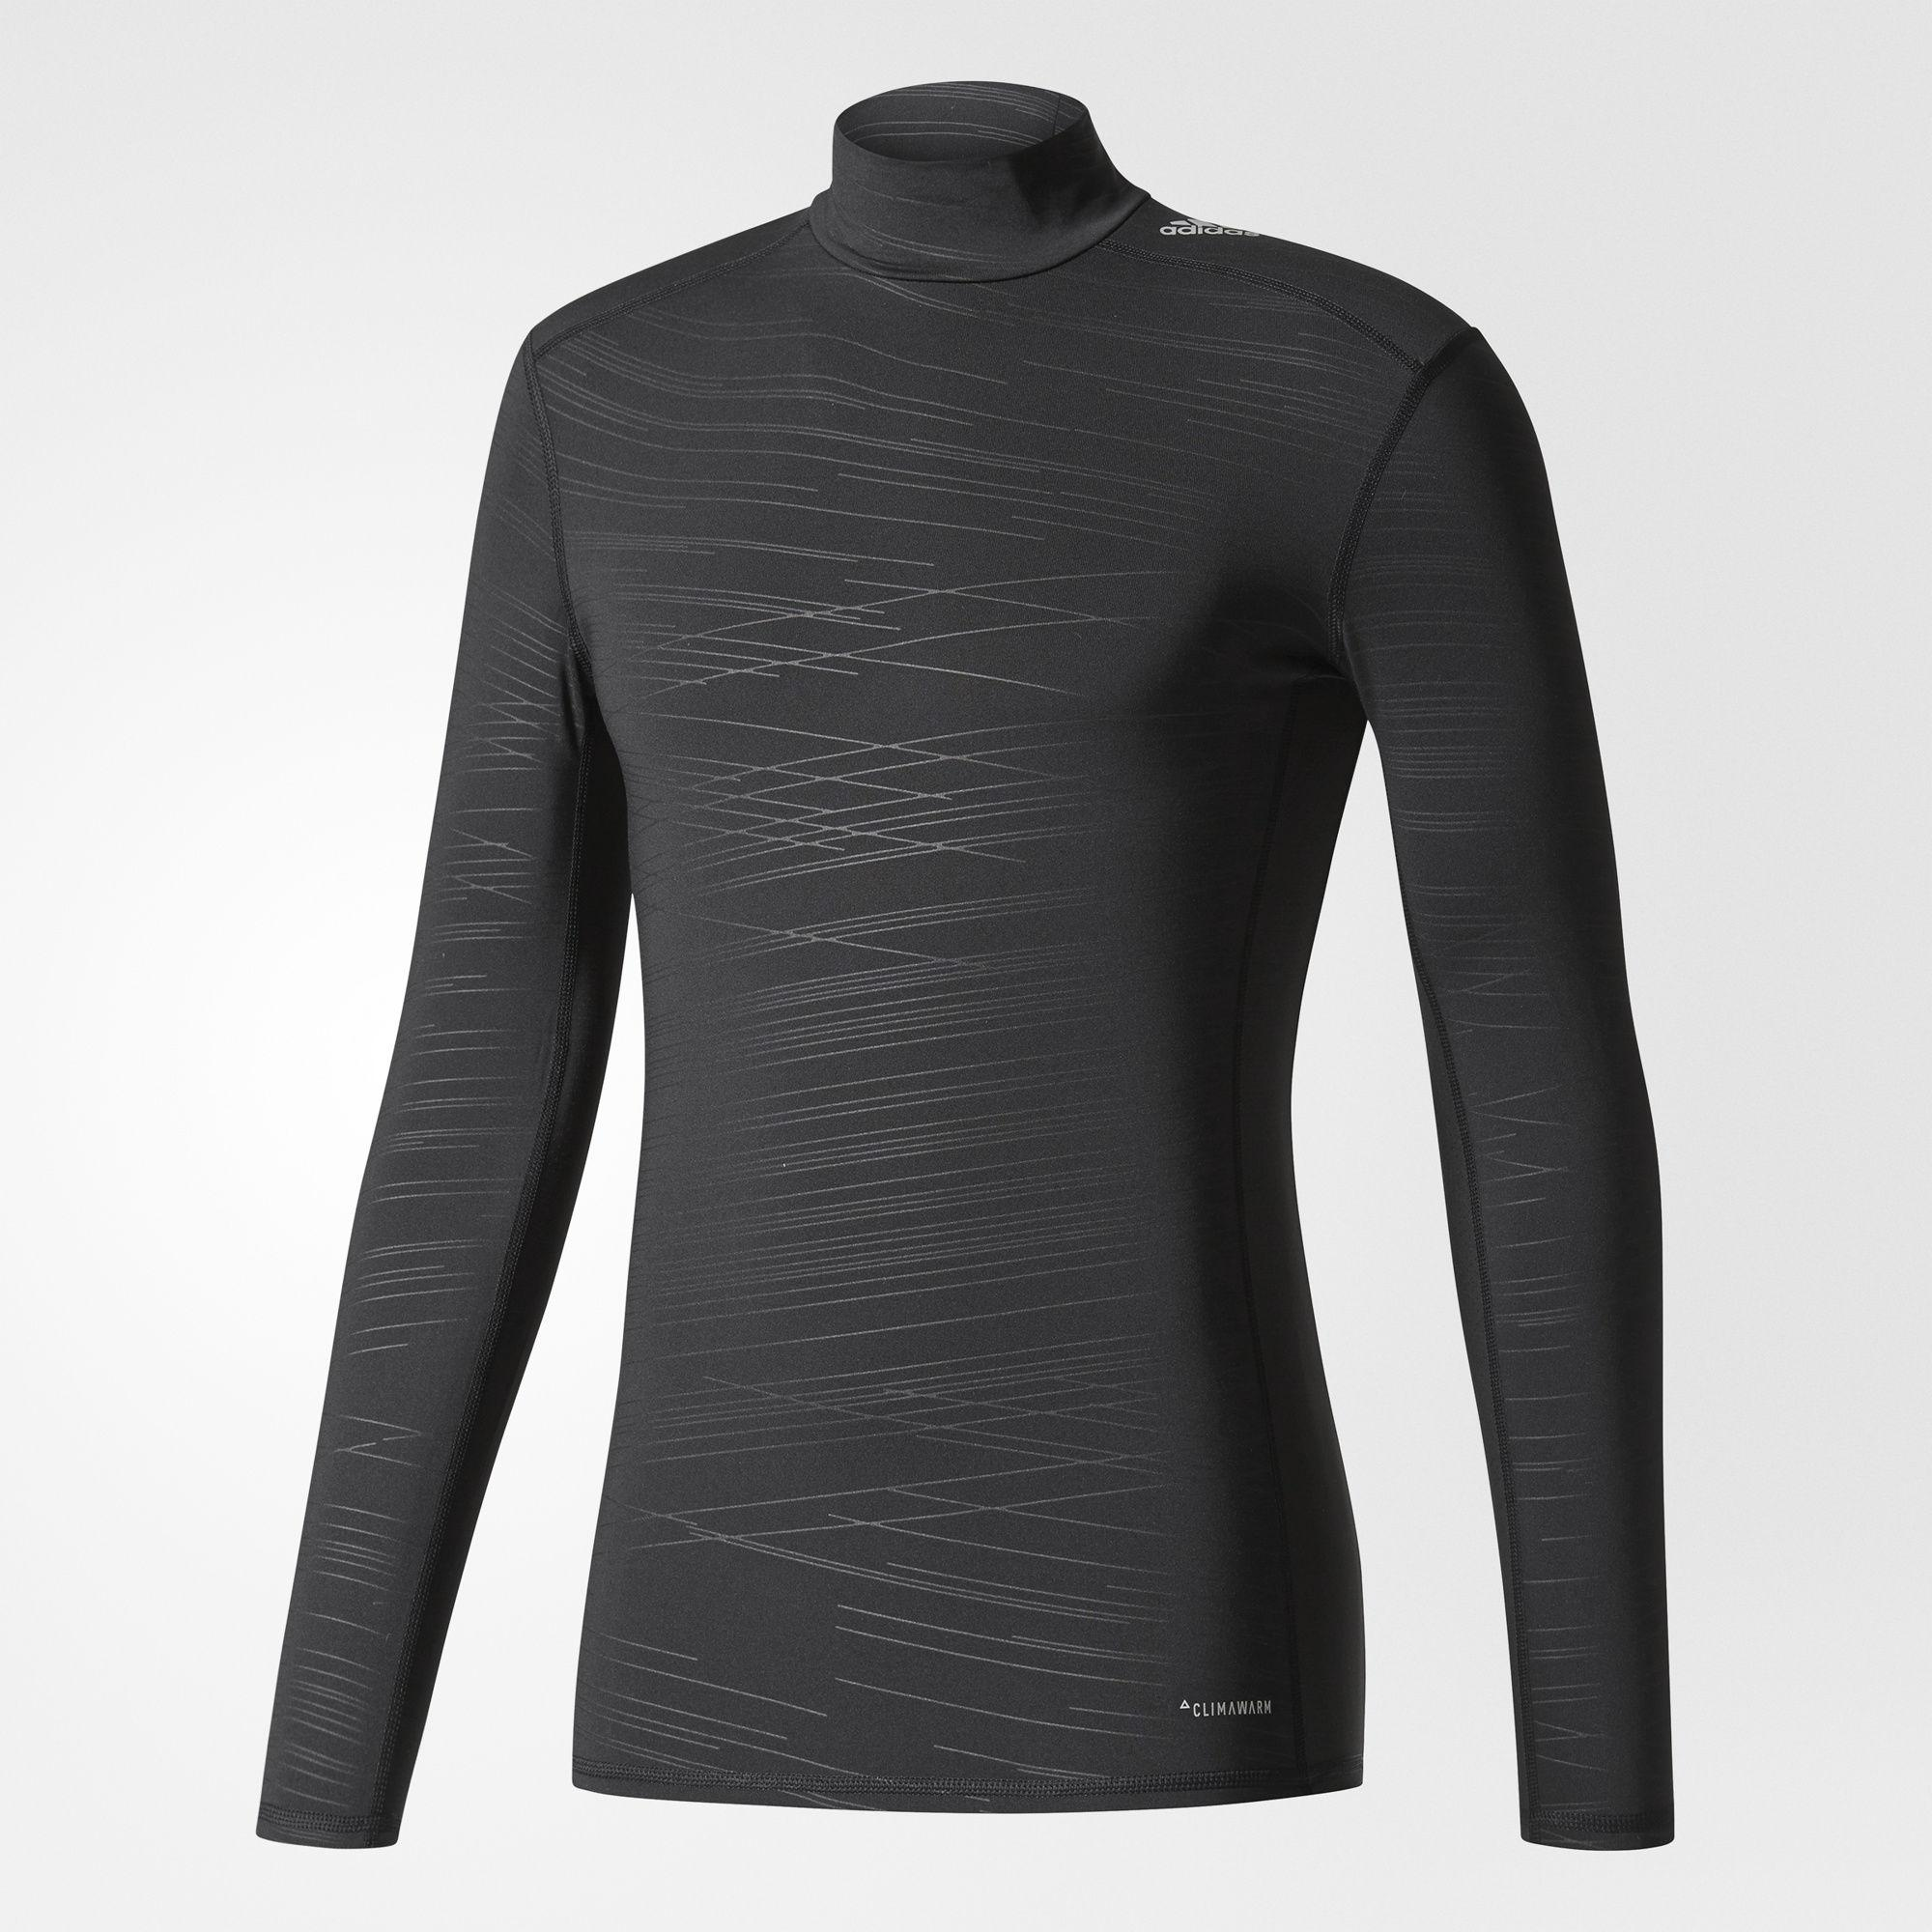teeshirt: (200, 73, 1775, 1854)
